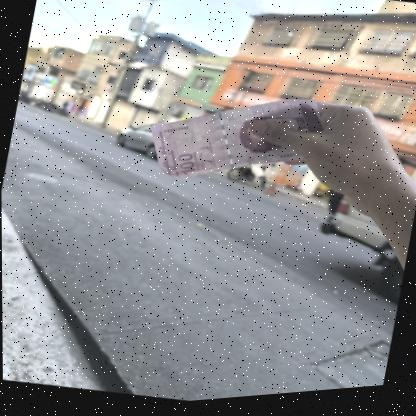one_hundred-front-vef: (139, 71, 331, 211)
